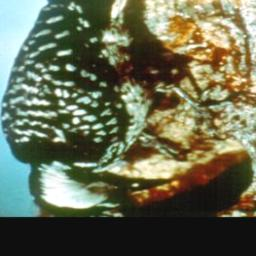Woodpecker: (1, 0, 245, 216)
